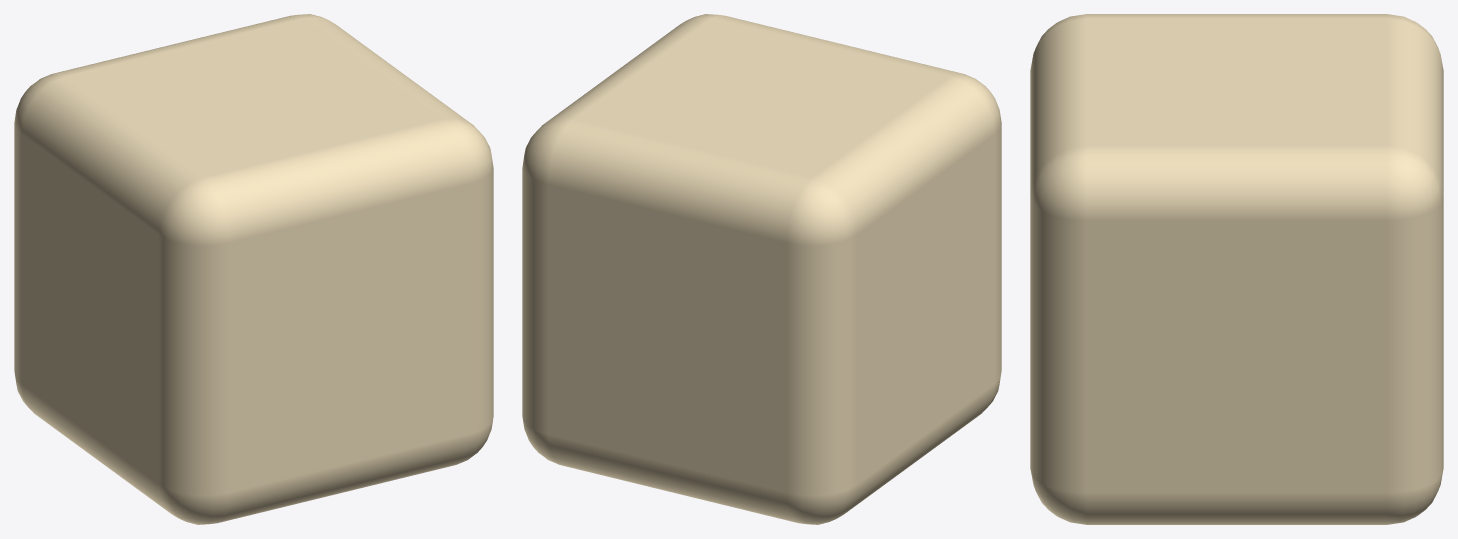
The model's file is block-unit.glb.
3 renders of one model, left to right at view 1: azimuth 30°, elevation 25°; view 2: azimuth 150°, elevation 25°; view 3: azimuth 270°, elevation 25°, orthographic. The views are drawn at different scales.
Visible parts, largest first — view 1: block-unit; view 2: block-unit; view 3: block-unit.
Boxes of the visible parts, <box> form: block-unit: <box>14,14,493,524</box>; block-unit: <box>522,14,1001,524</box>; block-unit: <box>1030,14,1443,524</box>.
Bounding box in the file's own units: 0.95 × 0.95 × 0.95.
